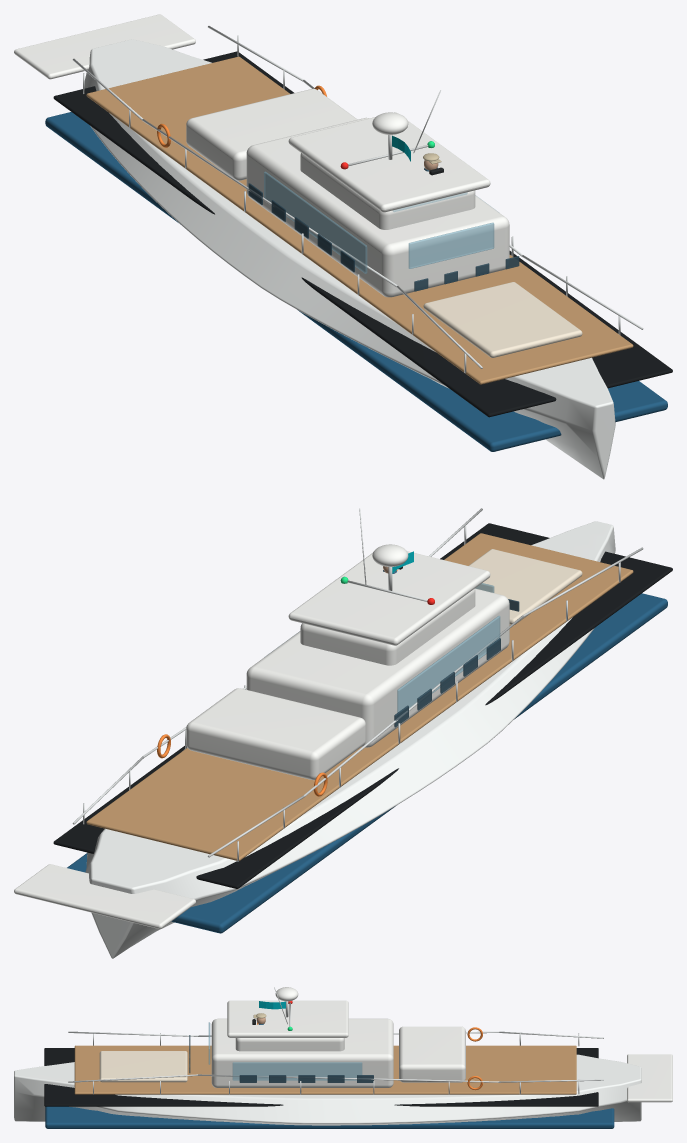
The model's file is expedition_yacht.glb.
3 views of the same model, one above another, from view 1: azimuth 30°, elevation 25°; view 2: azimuth 150°, elevation 25°; view 3: azimuth 270°, elevation 25° (orthographic). The views are drawn at different scales.
Parts seen in each view (by area): view 1: expedition_yacht_hull, teak_main_deck, main_cabin, black_rub_rail, bridge_roof, navy_lower_hull_band, aft_shaded_lounge, foredeck_sun_pad, aft_swim_platform, upper_bridge, side_glass_-2.34, windshield_center (+1 smaller); view 2: expedition_yacht_hull, teak_main_deck, main_cabin, aft_shaded_lounge, bridge_roof, black_rub_rail, navy_lower_hull_band, aft_swim_platform, foredeck_sun_pad, upper_bridge, side_glass_-2.34, radar_dome; view 3: expedition_yacht_hull, teak_main_deck, main_cabin, navy_lower_hull_band, black_rub_rail, bridge_roof, aft_shaded_lounge, foredeck_sun_pad, side_glass_2.34, aft_swim_platform, upper_bridge, starboard_mid_rail (+3 smaller).
Part boxes in pixels (<box>): expedition_yacht_hull: <box>84,39,615,479</box>; teak_main_deck: <box>86,56,633,384</box>; main_cabin: <box>246,117,509,297</box>; black_rub_rail: <box>53,51,672,417</box>; bridge_roof: <box>288,112,490,212</box>; navy_lower_hull_band: <box>45,112,667,451</box>; aft_shaded_lounge: <box>186,88,357,180</box>; foredeck_sun_pad: <box>423,282,582,357</box>; aft_swim_platform: <box>14,14,195,79</box>; upper_bridge: <box>300,153,475,229</box>; side_glass_-2.34: <box>264,171,367,273</box>; windshield_center: <box>408,222,494,268</box>; expedition_yacht_hull: <box>85,521,615,958</box>; teak_main_deck: <box>86,533,633,860</box>; main_cabin: <box>246,588,509,747</box>; aft_shaded_lounge: <box>186,688,365,780</box>; bridge_roof: <box>288,551,490,645</box>; black_rub_rail: <box>53,523,672,888</box>; navy_lower_hull_band: <box>67,593,667,933</box>; aft_swim_platform: <box>14,864,195,928</box>; foredeck_sun_pad: <box>469,549,582,624</box>; upper_bridge: <box>300,588,475,665</box>; side_glass_-2.34: <box>397,616,500,712</box>; radar_dome: <box>372,544,408,566</box>; expedition_yacht_hull: <box>14,1054,641,1125</box>; teak_main_deck: <box>74,1045,576,1094</box>; main_cabin: <box>211,1018,393,1087</box>; navy_lower_hull_band: <box>45,1106,614,1128</box>; black_rub_rail: <box>44,1048,598,1106</box>; bridge_roof: <box>227,1000,348,1037</box>; aft_shaded_lounge: <box>399,1026,465,1082</box>; foredeck_sun_pad: <box>99,1051,187,1082</box>; side_glass_2.34: <box>232,1062,362,1080</box>; aft_swim_platform: <box>627,1054,672,1102</box>; upper_bridge: <box>235,1038,344,1051</box>; starboard_mid_rail: <box>198,1074,499,1082</box>.
Size of the model in its own units: 7.98 by 7.94 by 31.5.
